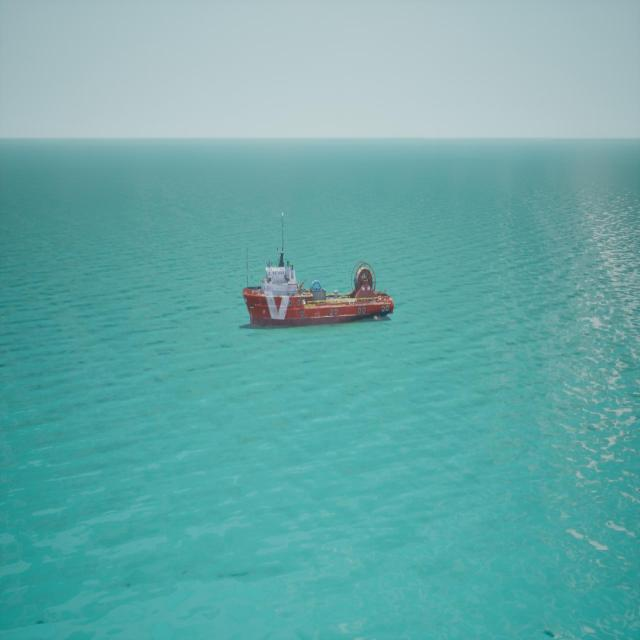tug boat: (240, 214, 394, 332)
